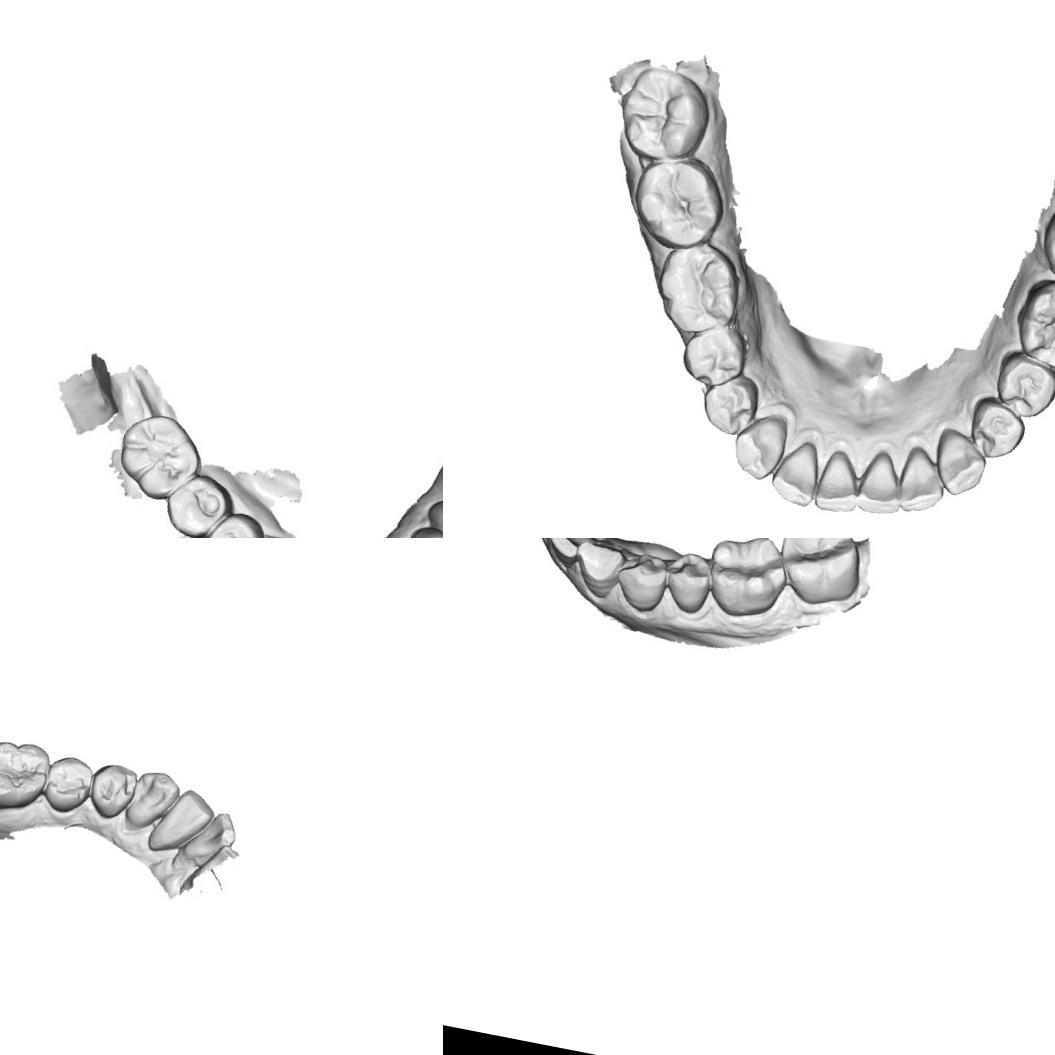canine: (926, 426, 990, 503), (728, 407, 790, 485), (120, 764, 184, 833), (566, 538, 630, 603)
incisor: (144, 781, 218, 861), (766, 436, 828, 510), (892, 445, 951, 520), (850, 447, 909, 521), (178, 804, 240, 868), (810, 449, 862, 517), (536, 538, 597, 571)
molar: (609, 59, 718, 167), (627, 147, 732, 255), (645, 235, 750, 343), (699, 538, 795, 626), (116, 411, 198, 498), (770, 538, 867, 611), (1006, 271, 1055, 376), (0, 731, 52, 817)
premolar: (676, 318, 752, 392), (986, 348, 1055, 424), (960, 394, 1028, 466), (697, 370, 762, 440), (163, 473, 232, 538), (609, 545, 671, 616), (656, 546, 717, 617), (38, 750, 98, 818), (84, 758, 140, 824), (201, 512, 263, 538)
